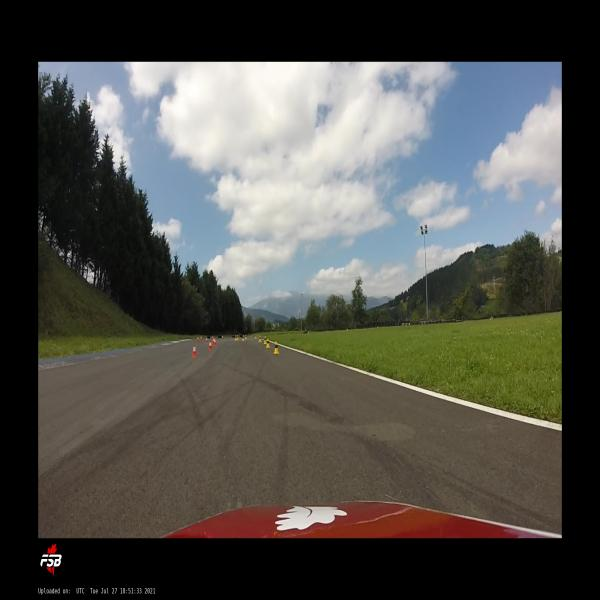orange_cone: (193, 344, 198, 358), (209, 340, 212, 350), (214, 338, 216, 346), (197, 336, 199, 341), (206, 337, 208, 342), (200, 336, 202, 340), (213, 338, 214, 344), (212, 336, 213, 341), (222, 336, 223, 340)
yellow_cone: (274, 341, 280, 354), (266, 338, 270, 348), (263, 335, 267, 344), (258, 335, 262, 342), (242, 335, 245, 340), (245, 334, 247, 340), (255, 333, 257, 339), (235, 335, 237, 340), (237, 335, 238, 340)
